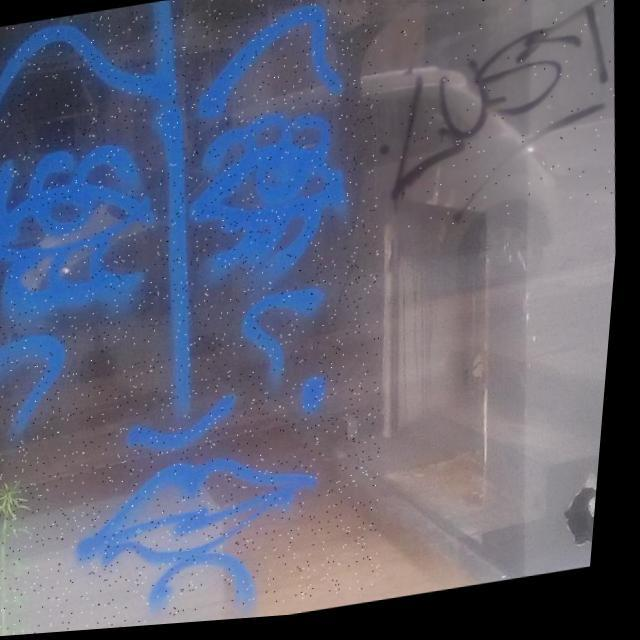-: (0, 0, 430, 640), (366, 0, 634, 244)
